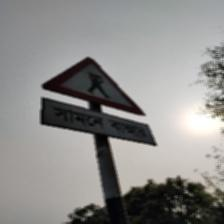Market-in-front: (38, 55, 156, 147)
